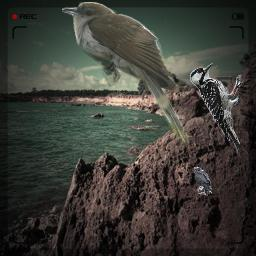Crow: (194, 167, 212, 196)
Cuckoo: (62, 2, 189, 147)
Woodpecker: (189, 63, 243, 160)
